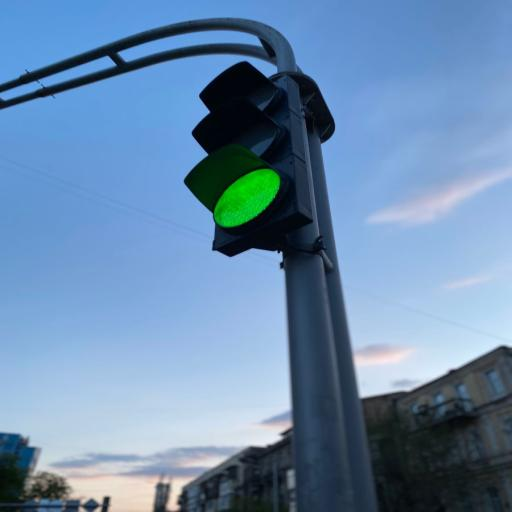pole: (184, 62, 313, 256)
